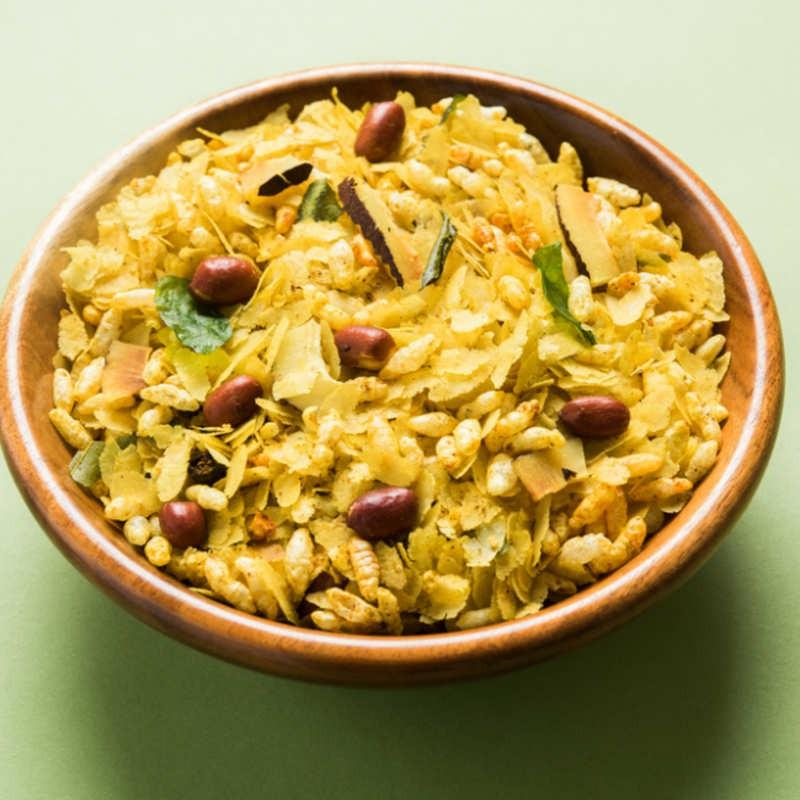Poha: (59, 86, 734, 638)
